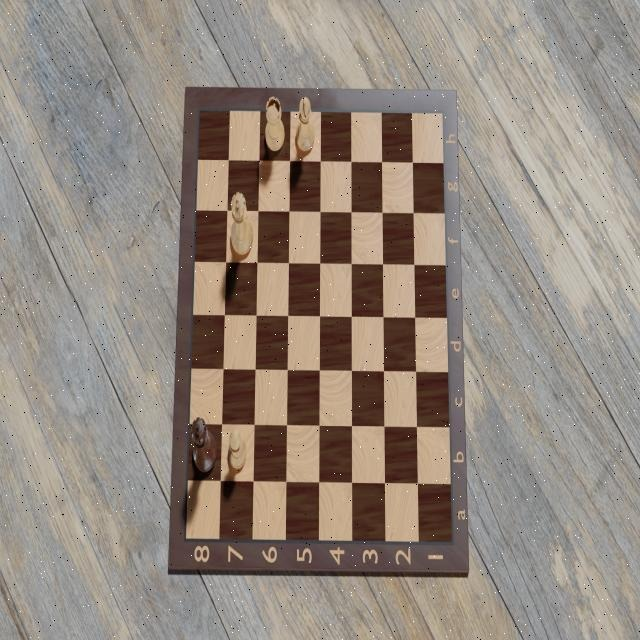black-king: (188, 414, 218, 474)
white-bishop: (294, 93, 318, 163)
white-king: (225, 188, 254, 262)
white-pawn: (224, 420, 249, 479)
white-rook: (259, 90, 290, 162)
